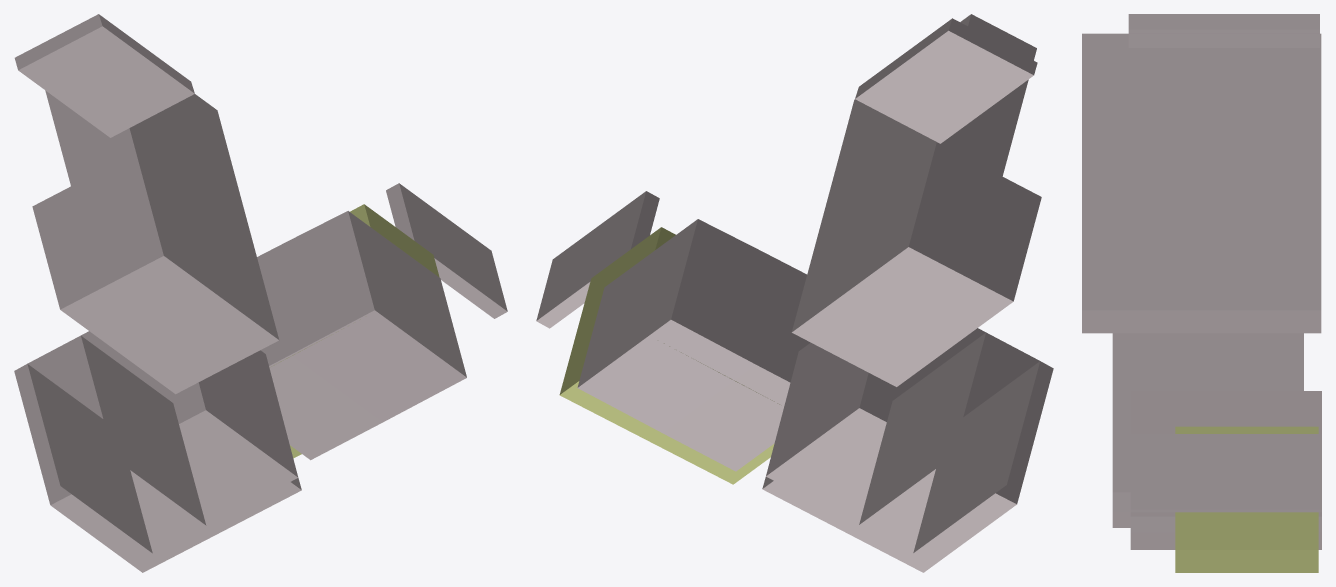
3 views of the same model, side by side, from view 1: azimuth 30°, elevation 25°; view 2: azimuth 150°, elevation 25°; view 3: azimuth 270°, elevation 25° (orthographic). The views are drawn at different scales.
Parts seen in each view (by area): view 1: 0_2_1_3_3_3_3_1_1; view 2: 0_2_1_3_3_3_3_1_1; view 3: 0_2_1_3_3_3_3_1_1.
Boxes of the visible parts, left/top/right/bottom form: 0_2_1_3_3_3_3_1_1: left=14, top=14, right=507, bottom=572; 0_2_1_3_3_3_3_1_1: left=536, top=14, right=1053, bottom=572; 0_2_1_3_3_3_3_1_1: left=1082, top=14, right=1321, bottom=572.
Size of the model in its own units: 30.73 by 33.82 by 15.04.
